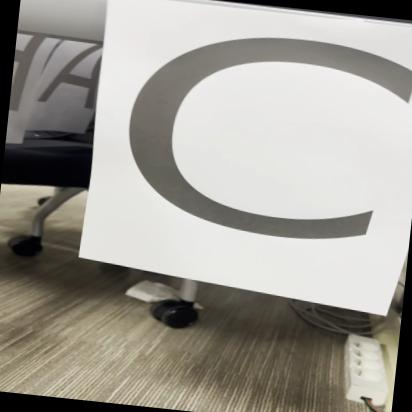seat: (80, 0, 412, 324)
